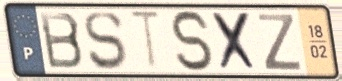B: (36, 10, 86, 71)
S: (168, 8, 218, 74), (81, 9, 128, 72)
T: (127, 8, 164, 74)
X: (209, 10, 260, 73)
Z: (256, 11, 304, 72)
